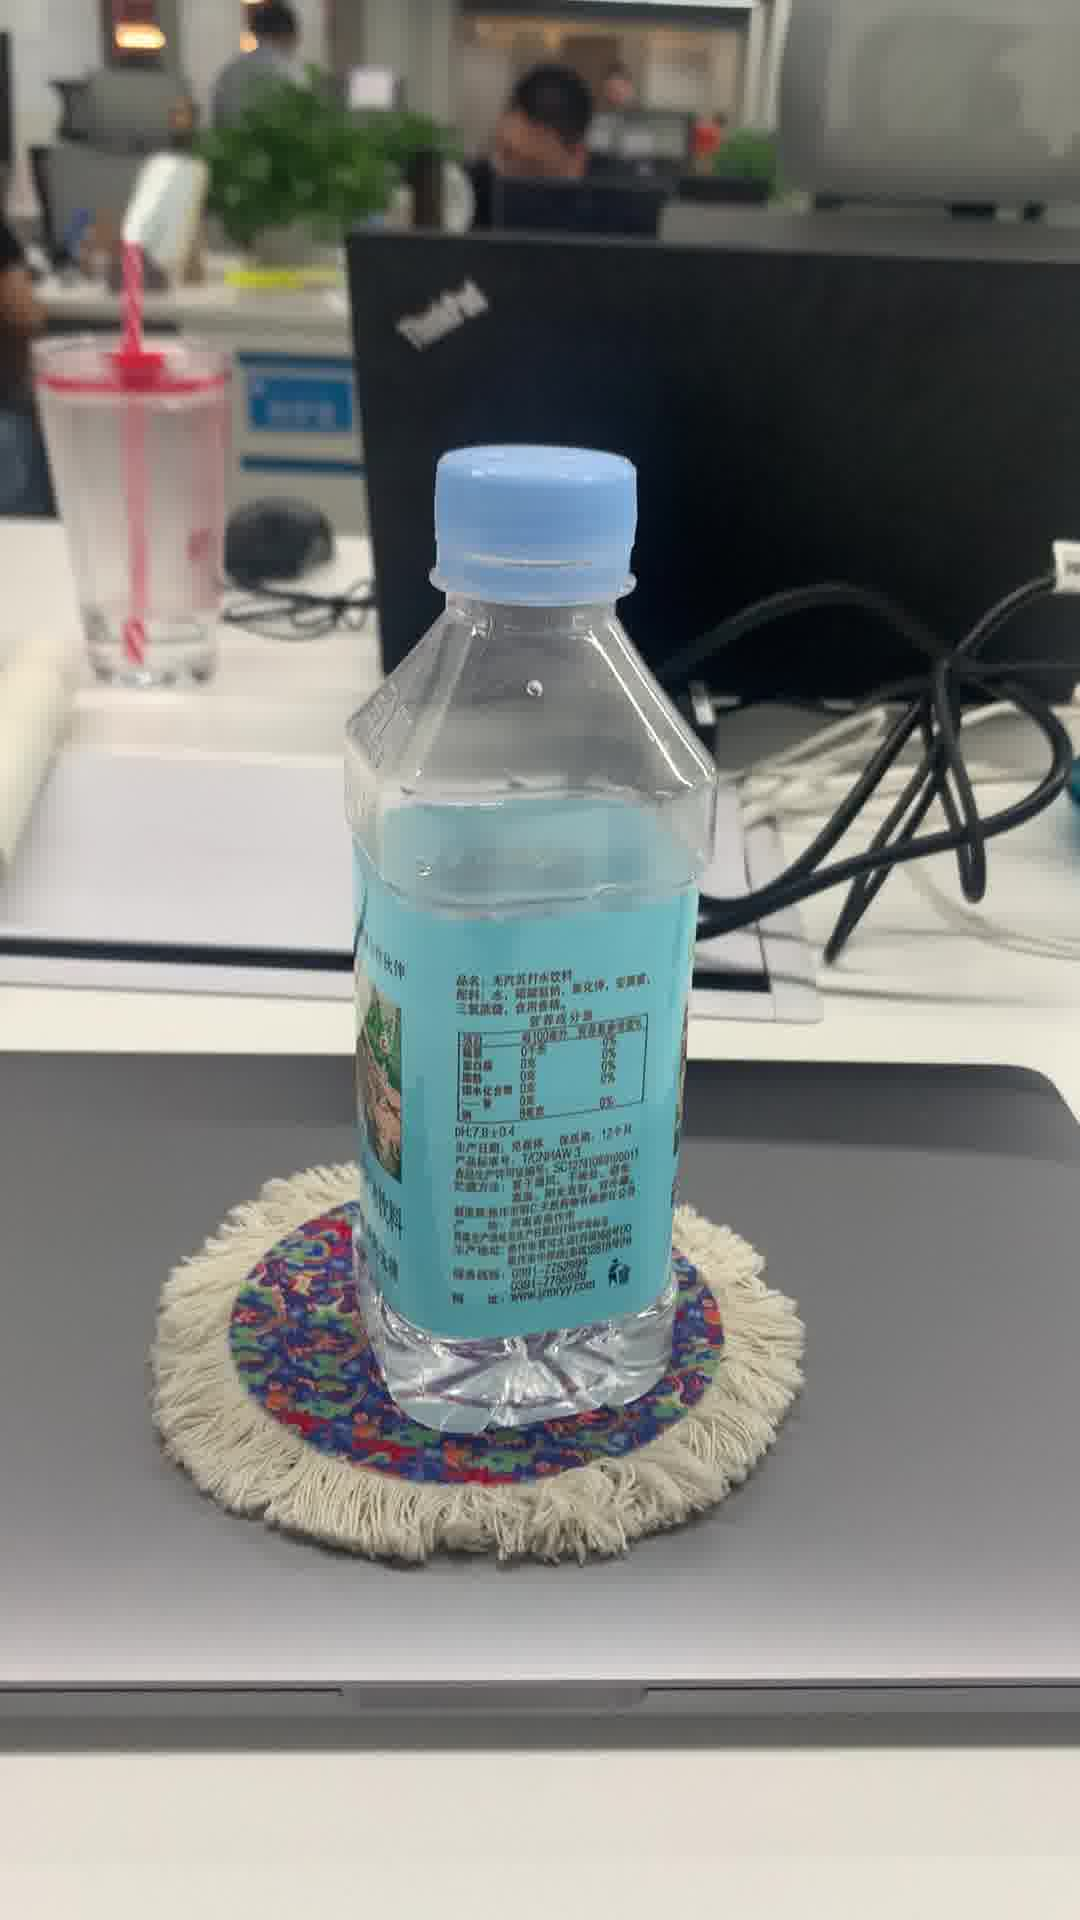水瓶: (328, 433, 713, 1432)
